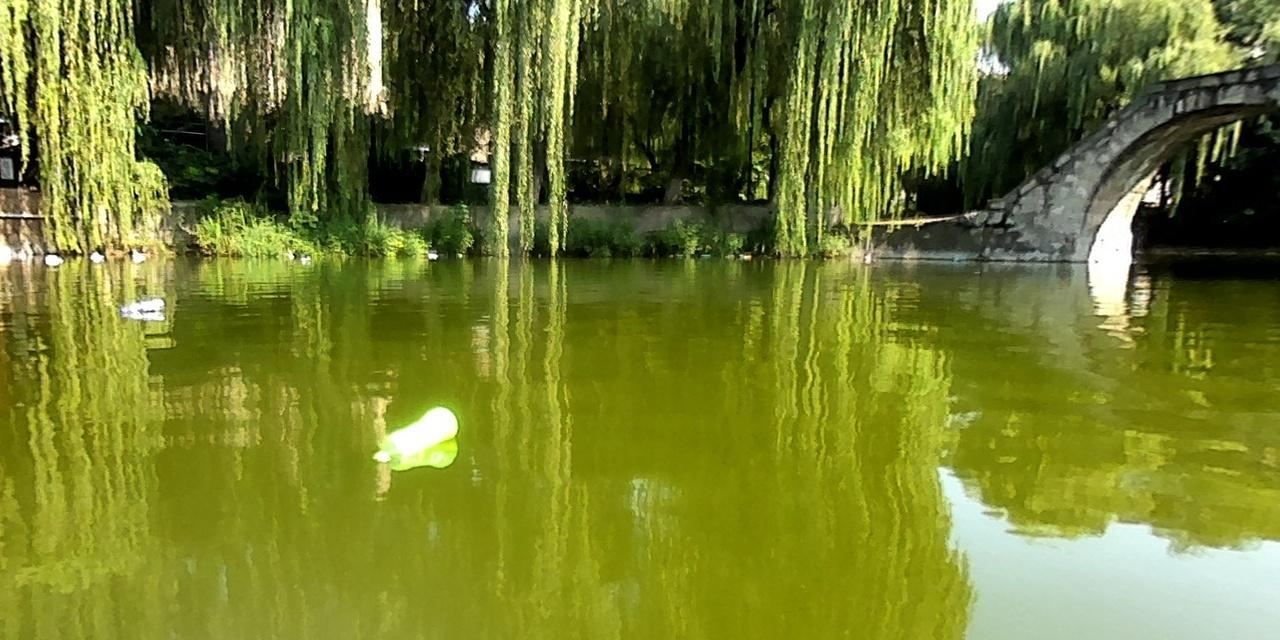bottle: (373, 404, 458, 461), (119, 297, 165, 313), (41, 252, 63, 266), (88, 250, 103, 262), (130, 252, 146, 263)
